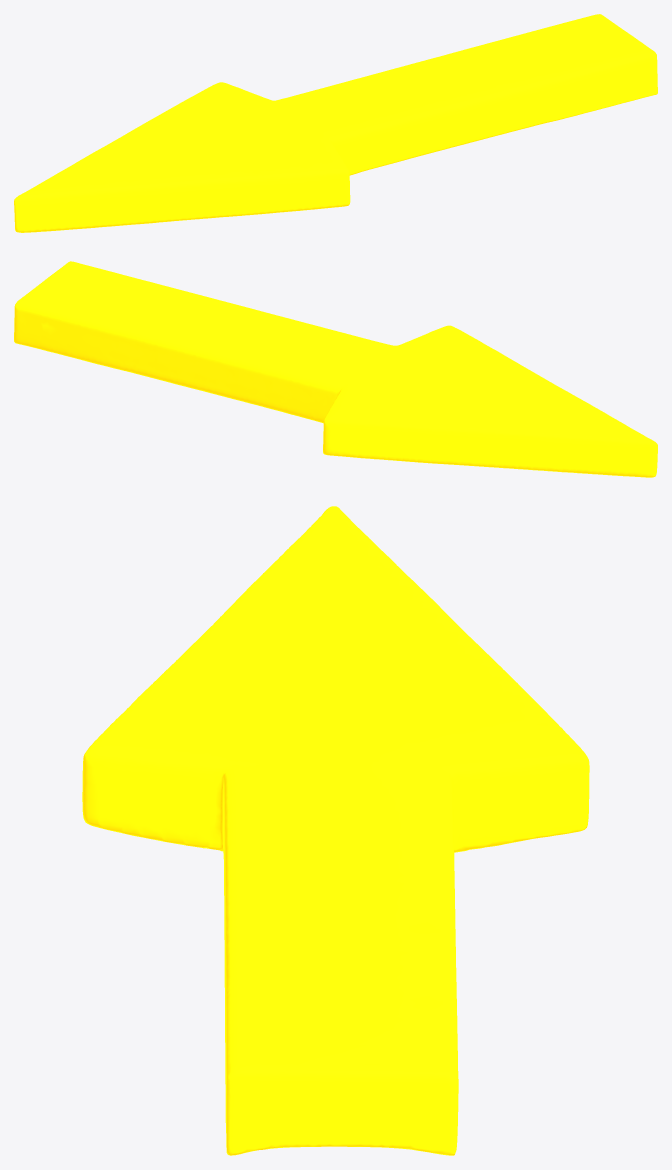
The model's file is modelYellow.glb.
The picture shows the model from 3 angles, top to bottom: view 1: azimuth 30°, elevation 25°; view 2: azimuth 150°, elevation 25°; view 3: azimuth 270°, elevation 25°; orthographic projection. The views are drawn at different scales.
Parts seen in each view (by area): view 1: Mesh_0.001; view 2: Mesh_0.001; view 3: Mesh_0.001.
Boxes of the visible parts, x1=… form: Mesh_0.001: x1=14, y1=14, x2=657, y2=232; Mesh_0.001: x1=14, y1=261, x2=657, y2=477; Mesh_0.001: x1=82, y1=506, x2=589, y2=1155.
Bounding box in the file's own units: 2 × 0.1617 × 0.7157.
